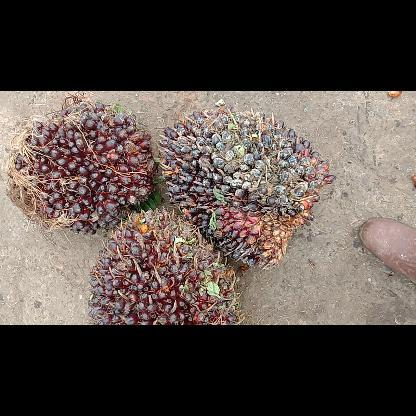Kurang masak: (11, 100, 156, 234), (91, 208, 242, 324)
TBS mentah: (160, 107, 334, 271)
